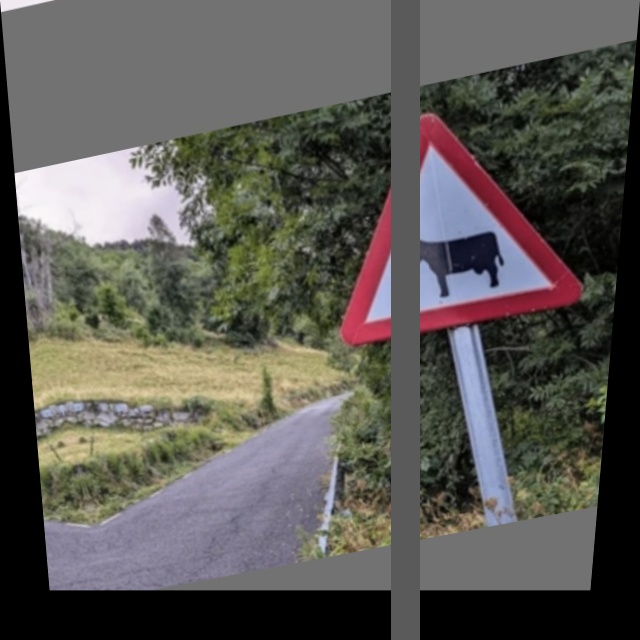Cattle: (319, 84, 593, 353)
